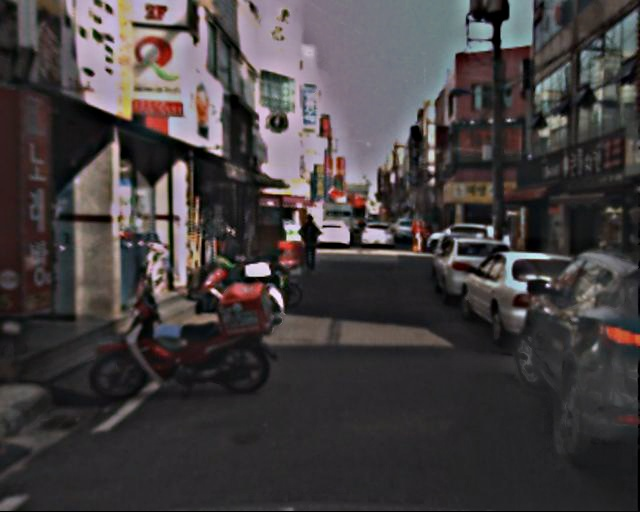person: (301, 216, 325, 274), (412, 218, 435, 256)
